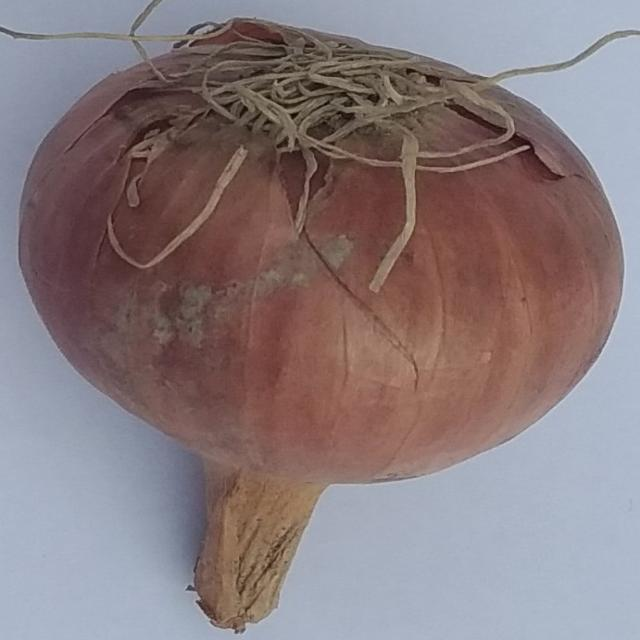onion: (15, 17, 625, 635)
